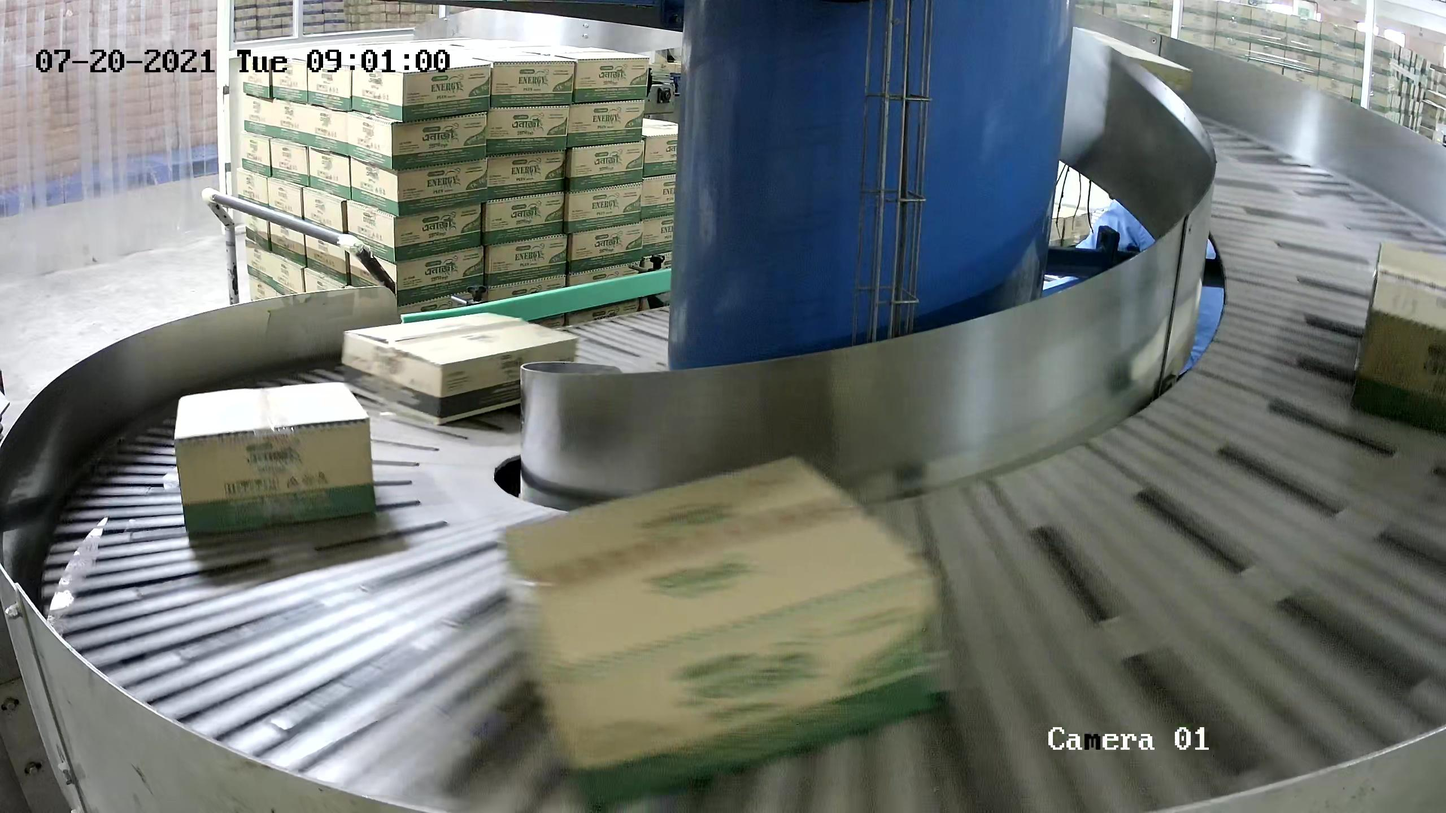Box: (495, 451, 948, 813), (173, 382, 377, 536), (341, 312, 581, 427), (1350, 238, 1446, 438)
